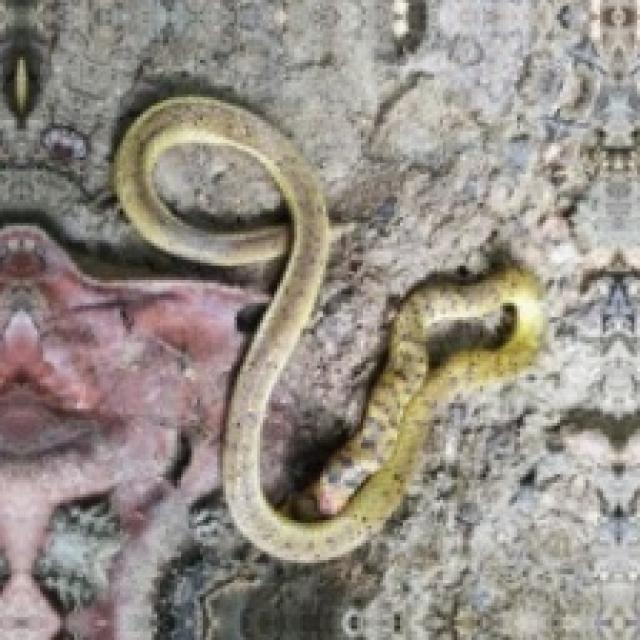luzon dwarf snake: (114, 97, 543, 560), (171, 149, 289, 226)
